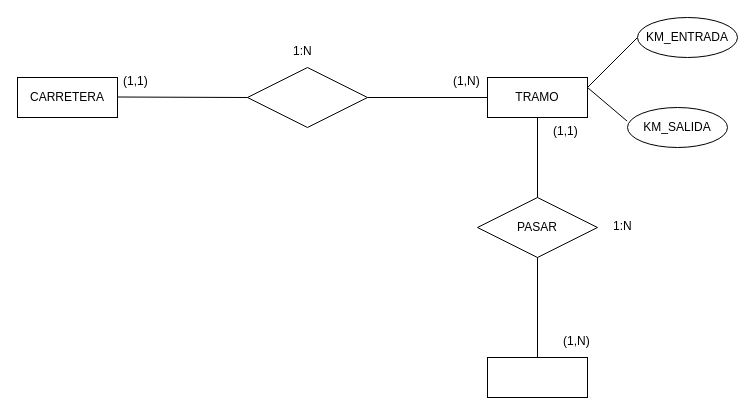
This 755x415 diagram has some shape labels left out. The centre of each missing label's shape, as x and y in pixels:
"PERTENECER" belongs at (307,97).
"TÉRMINO M." belongs at (537,377).
